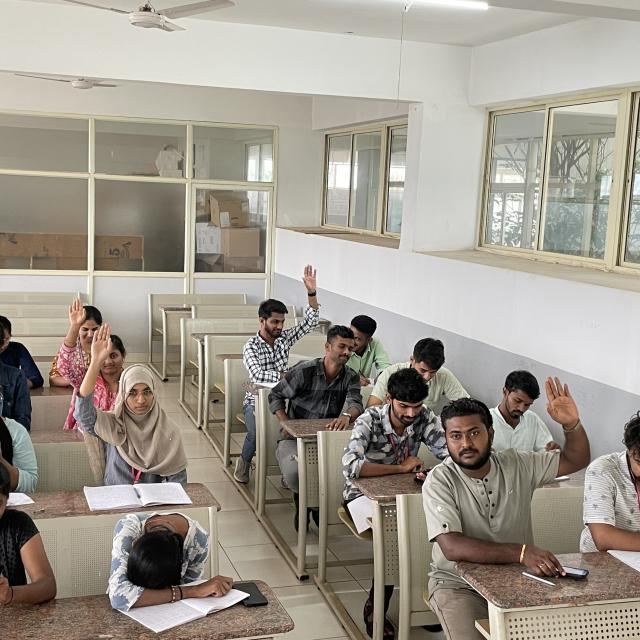Hand Rising: (450, 366, 600, 537), (65, 321, 188, 500), (244, 268, 324, 368), (63, 294, 135, 387)
Sleeping: (108, 513, 238, 604)
Using Phone: (344, 366, 441, 479)
Writing: (322, 316, 388, 390)
